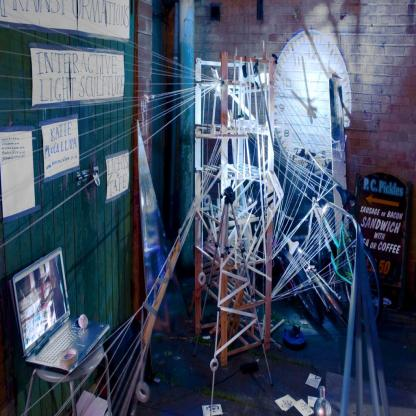board: (10, 243, 104, 391)
